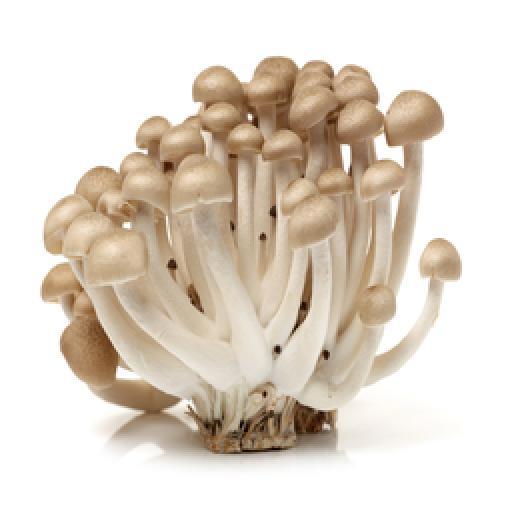mushrooms: (40, 55, 459, 454)
